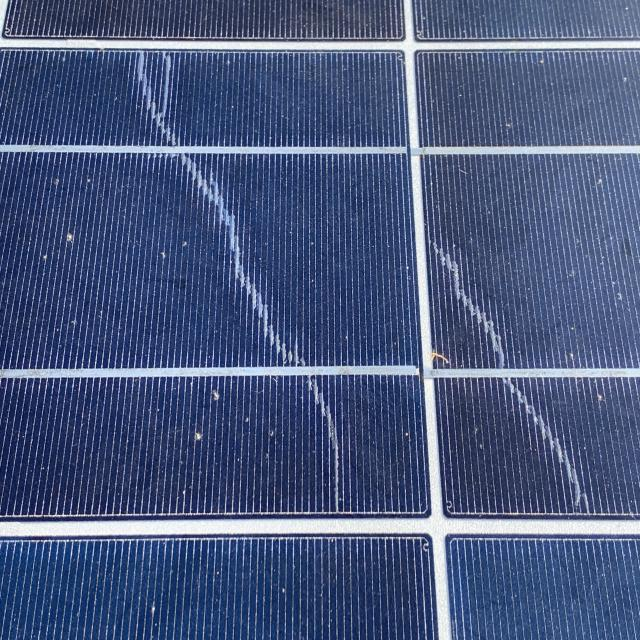Electrical-damage: (0, 48, 428, 522), (424, 157, 640, 519)
